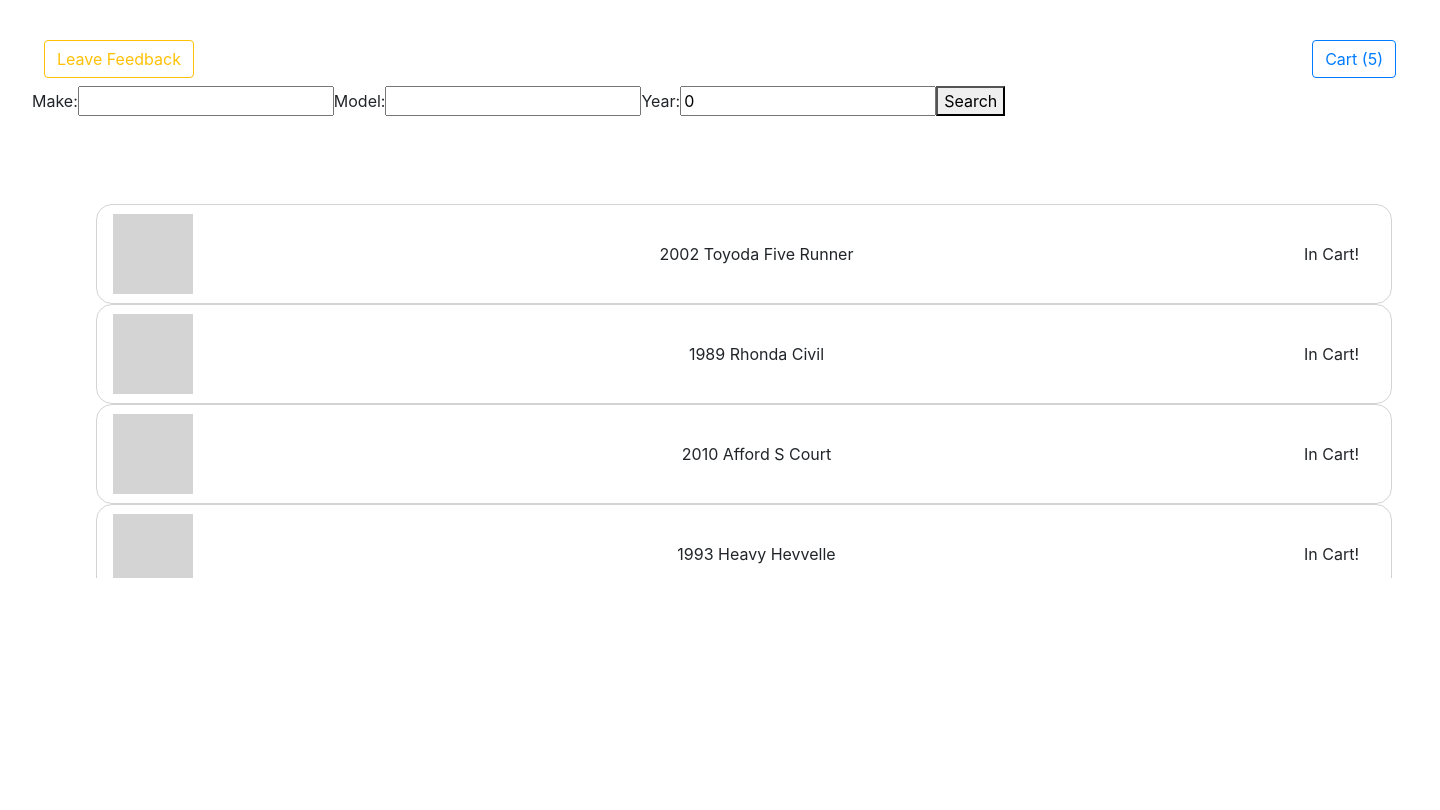
Test: App Content › should display shopping cart when clicking on cart in nav bar
The width and height of the screenshot is (1440, 810).
Click the button "Cart (5)": point(1354, 59) [1312,40,1396,78]
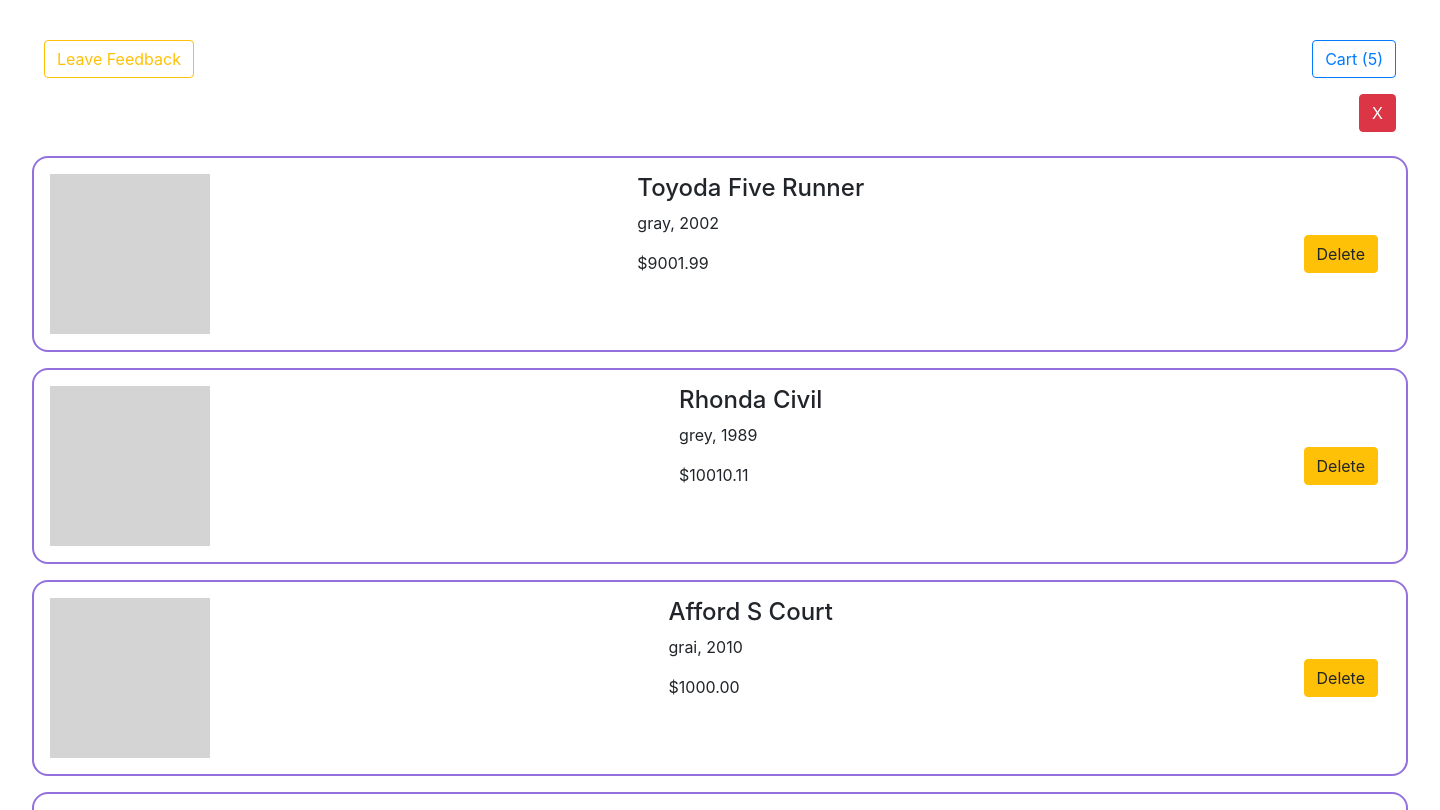
Result: no elements with test id "list-item" are shown
